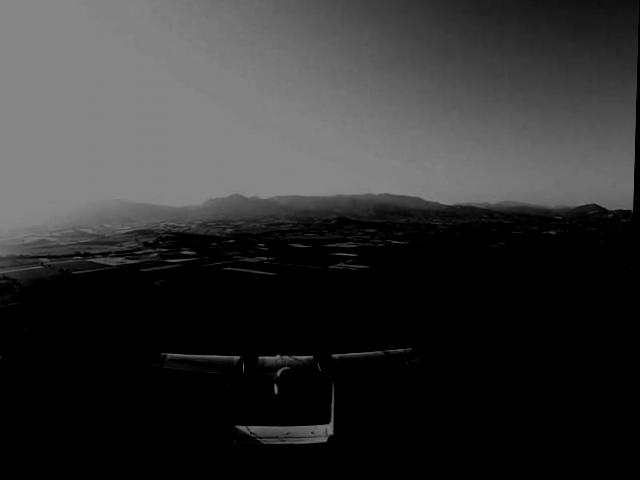hedef: (147, 315, 422, 457)
